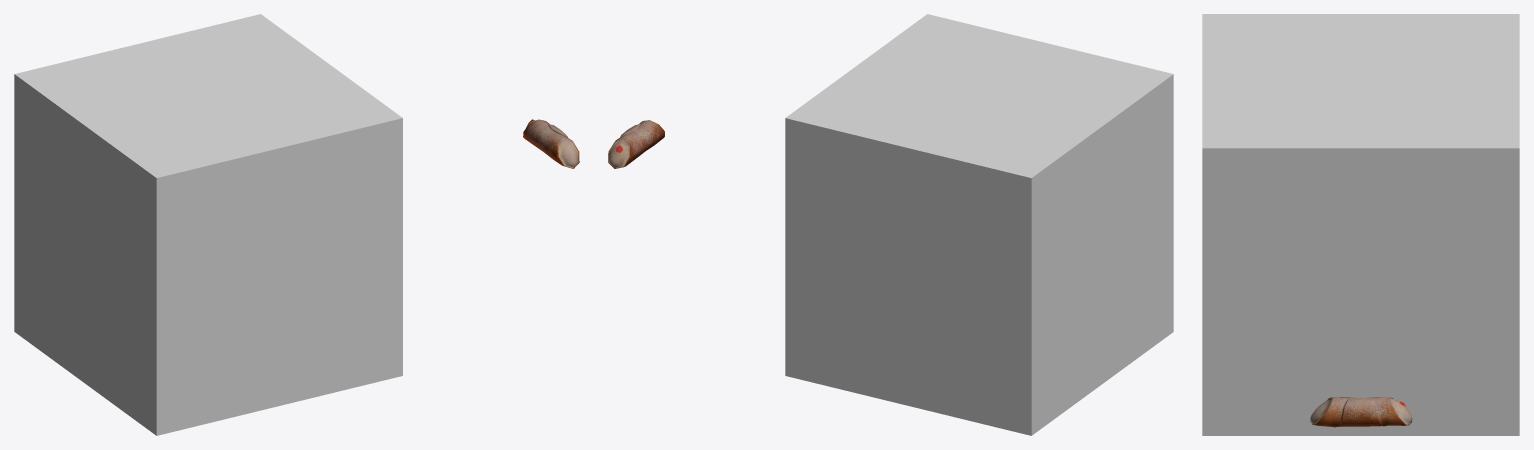
The picture shows the model from 3 angles, left to right: view 1: azimuth 30°, elevation 25°; view 2: azimuth 150°, elevation 25°; view 3: azimuth 270°, elevation 25°; orthographic projection. The views are drawn at different scales.
Parts seen in each view (by area): view 1: Cube, Cannolo1.001; view 2: Cube, Cannolo1.001; view 3: Cube, Cannolo1.001.
Part boxes in pixels (box(x1,y1,x2,y2)): Cube: box(14, 14, 402, 435); Cannolo1.001: box(523, 119, 579, 168); Cube: box(785, 14, 1173, 435); Cannolo1.001: box(608, 120, 664, 168); Cube: box(1202, 14, 1519, 435); Cannolo1.001: box(1310, 397, 1412, 427).
Size of the model in its own units: 3.88 by 2 by 2.
1 material, 1 textured.
